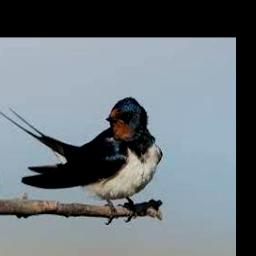Swallow: (0, 97, 161, 220)
